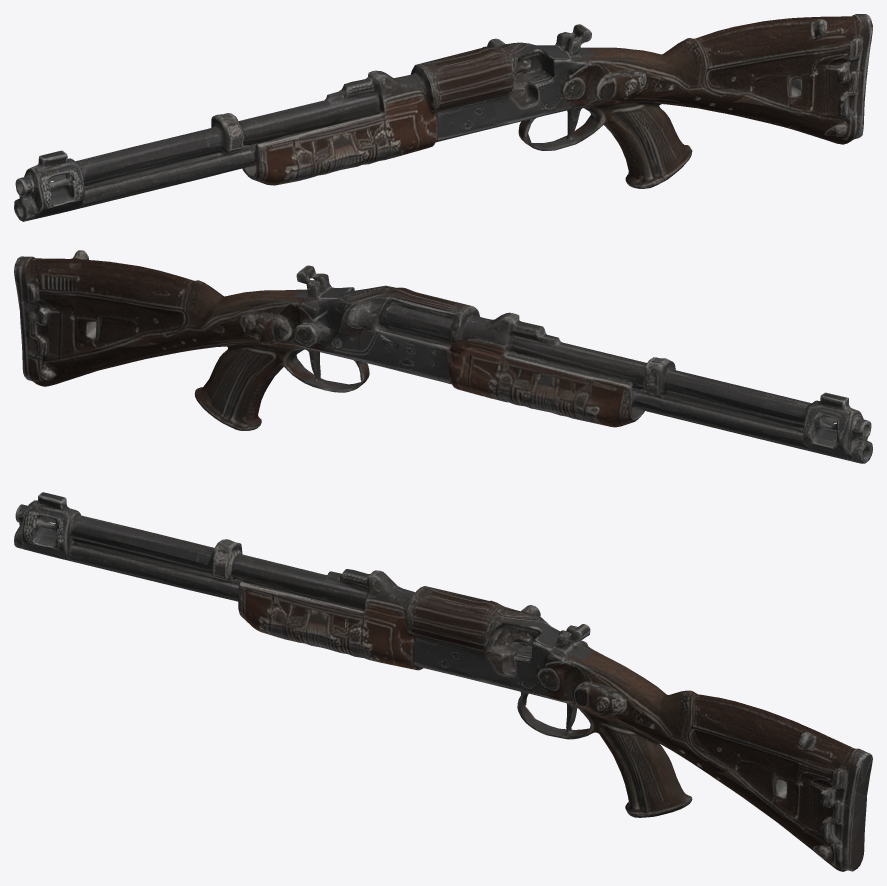
Rendered from Meshy_AI_Rustborn_Rifle_0929100508_texture.fbx.
The picture shows the model from 3 angles, top to bottom: view 1: azimuth 30°, elevation 25°; view 2: azimuth 150°, elevation 25°; view 3: azimuth 330°, elevation 25°; orthographic projection.
Parts seen in each view (by area): view 1: Mesh_0; view 2: Mesh_0; view 3: Mesh_0.
Part boxes in pixels (x1,y1,x2,y2): Mesh_0: (14,14,872,221); Mesh_0: (14,250,872,463); Mesh_0: (14,492,872,871).
Bounding box in the file's own units: 190 × 39.44 × 14.6.
1 material, 1 textured.
